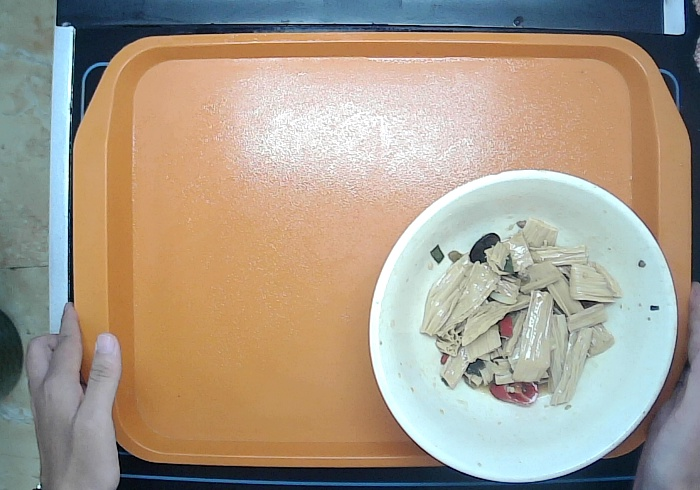ZNLD-Da_Tang_Wan: (367, 167, 682, 486)
